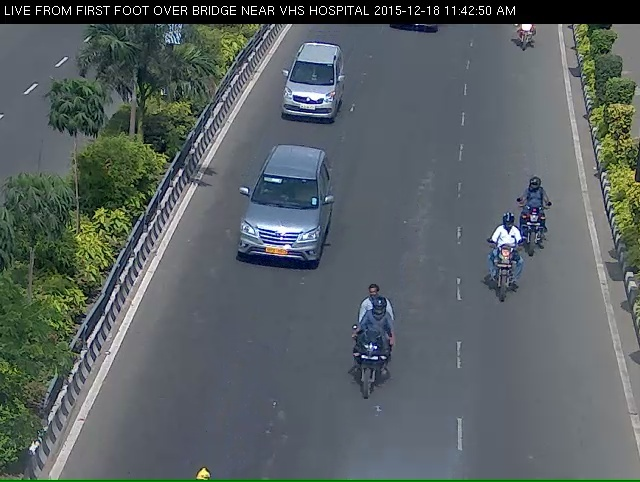Car: (233, 157, 341, 291), (273, 49, 356, 137)
Person: (336, 299, 390, 426), (512, 191, 564, 281), (484, 222, 523, 324), (509, 20, 546, 56)
